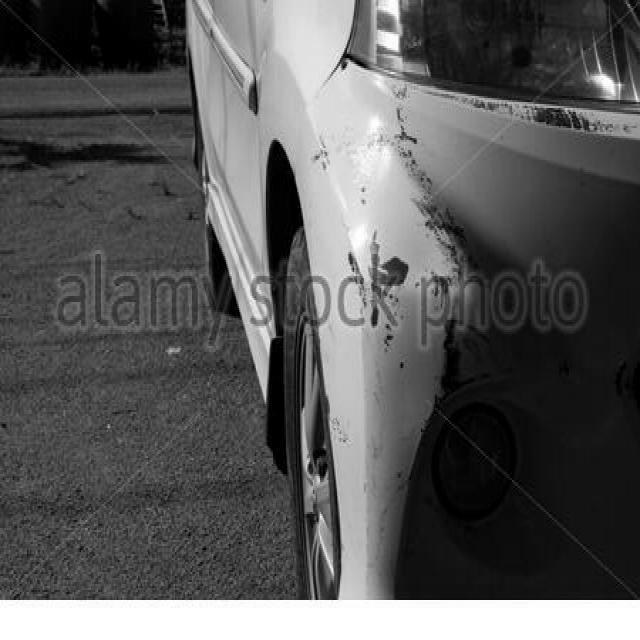front-bumper-dent: (275, 56, 639, 576)
